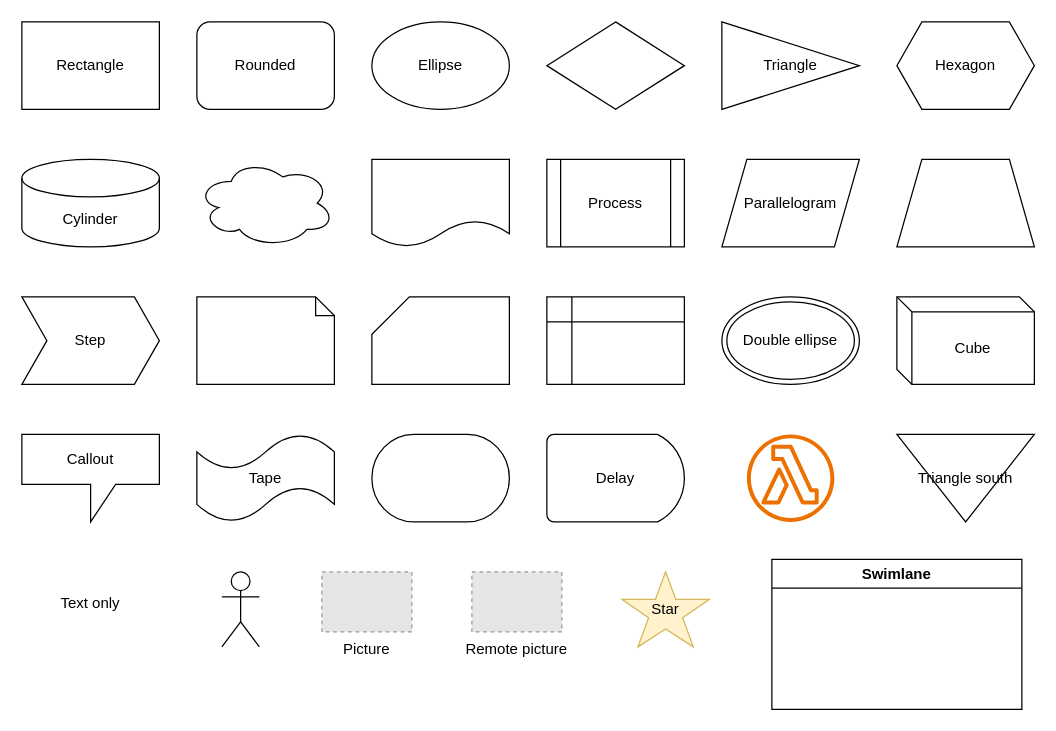
The diagram is 1056 pixels wide and 731 high, and some of its shapes have lost their labels. Grey dashed boxes stand in for pictures. Each missing label, with the centre of its shape:
Actor: [240,609]
Card: [440,340]
Cloud: [265,202]
Document: [440,202]
Internal storage: [615,340]
Note: [265,340]
Rhombus: [615,65]
Terminator: [440,477]
Trapezoid: [965,202]
